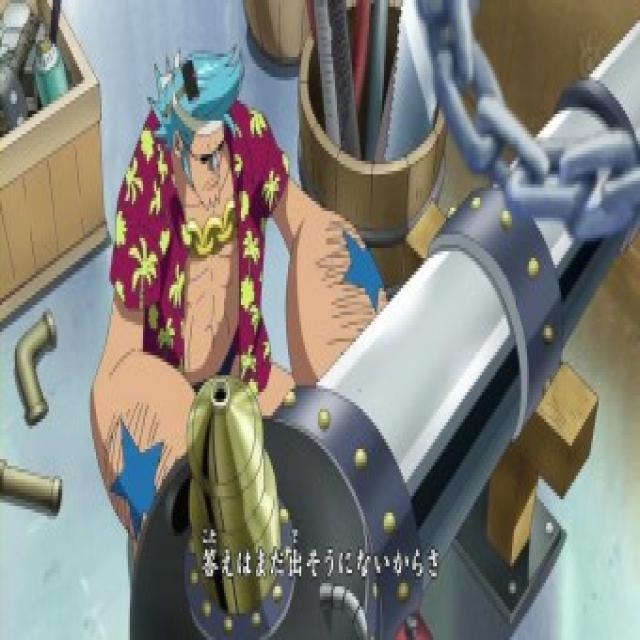Franky: (150, 41, 242, 211)
